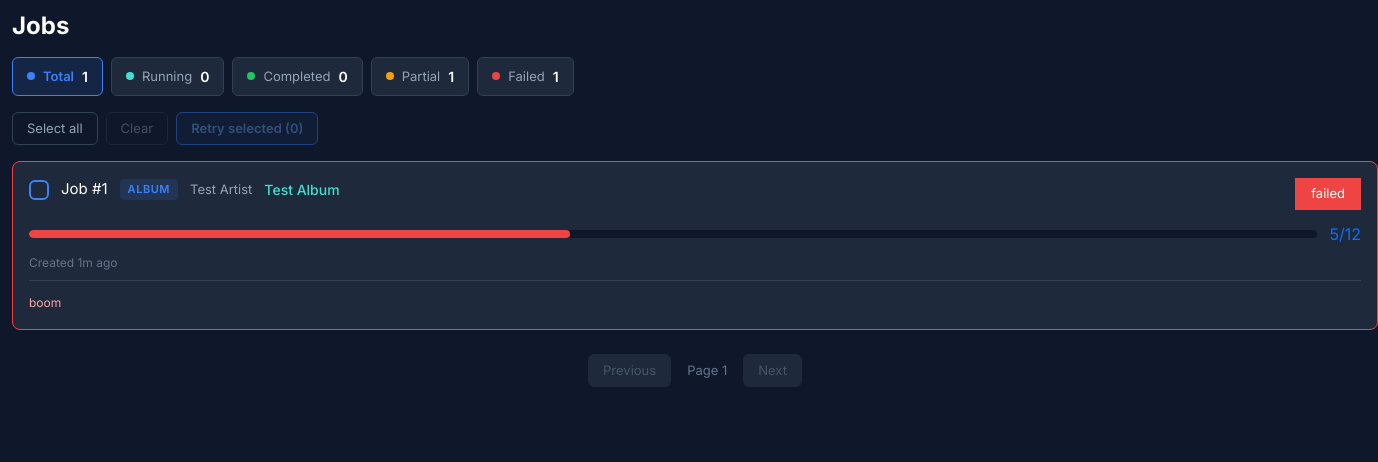
Test: JobsPage retry selection › shows error feedback when a retry fails
The width and height of the screenshot is (1378, 462).
Click the checkbox at (39, 190), box [29,180,49,200]
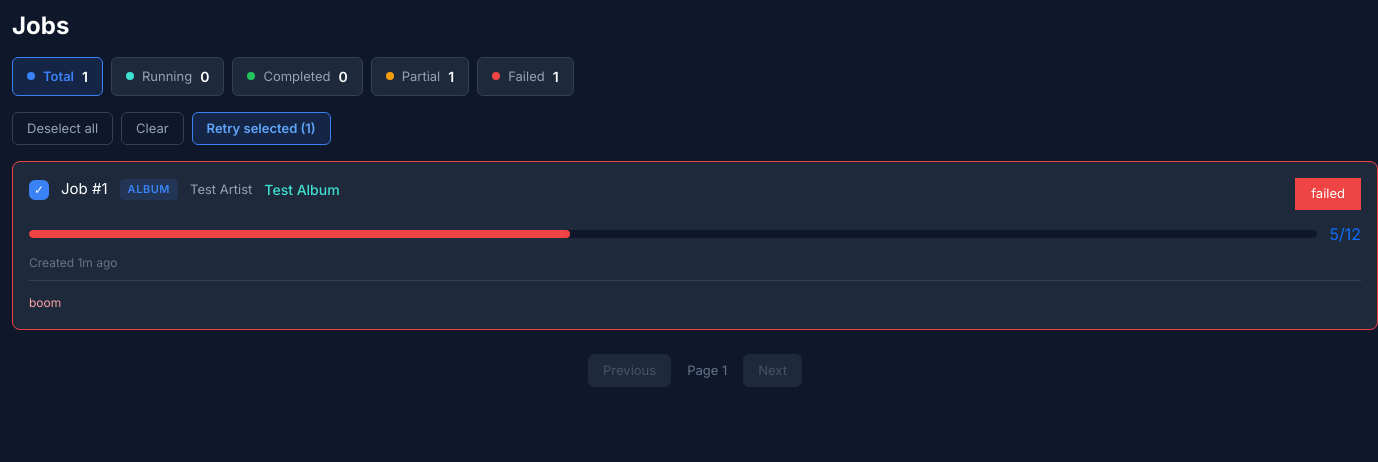
Click the button "Retry selected (1)" at (261, 129), box [192,112,331,145]
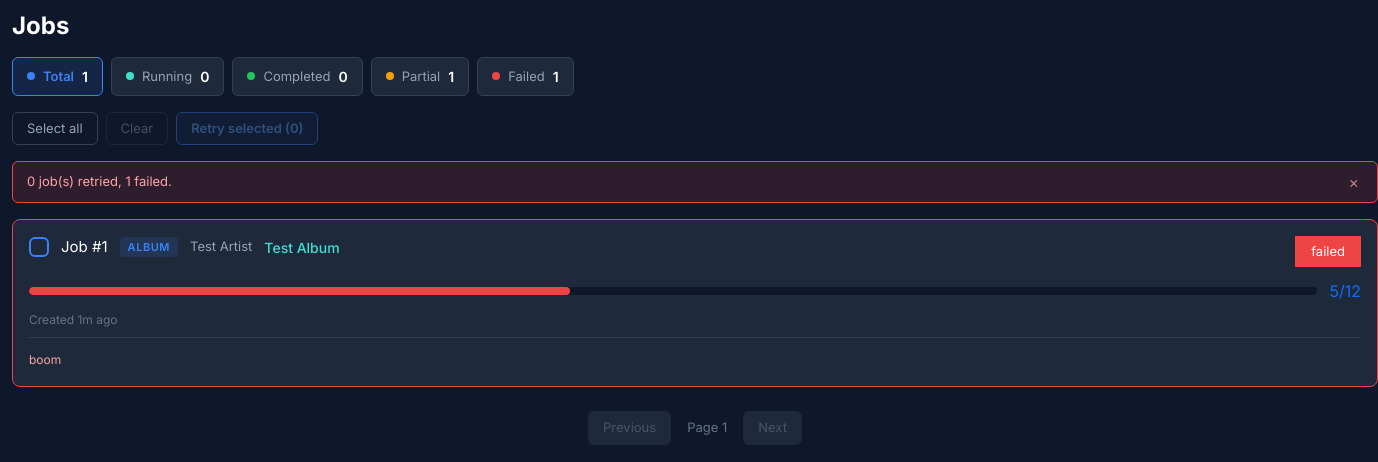
expect the text "0 job(s) retried, 1 failed." is shown: met, box [27,172,172,192]
